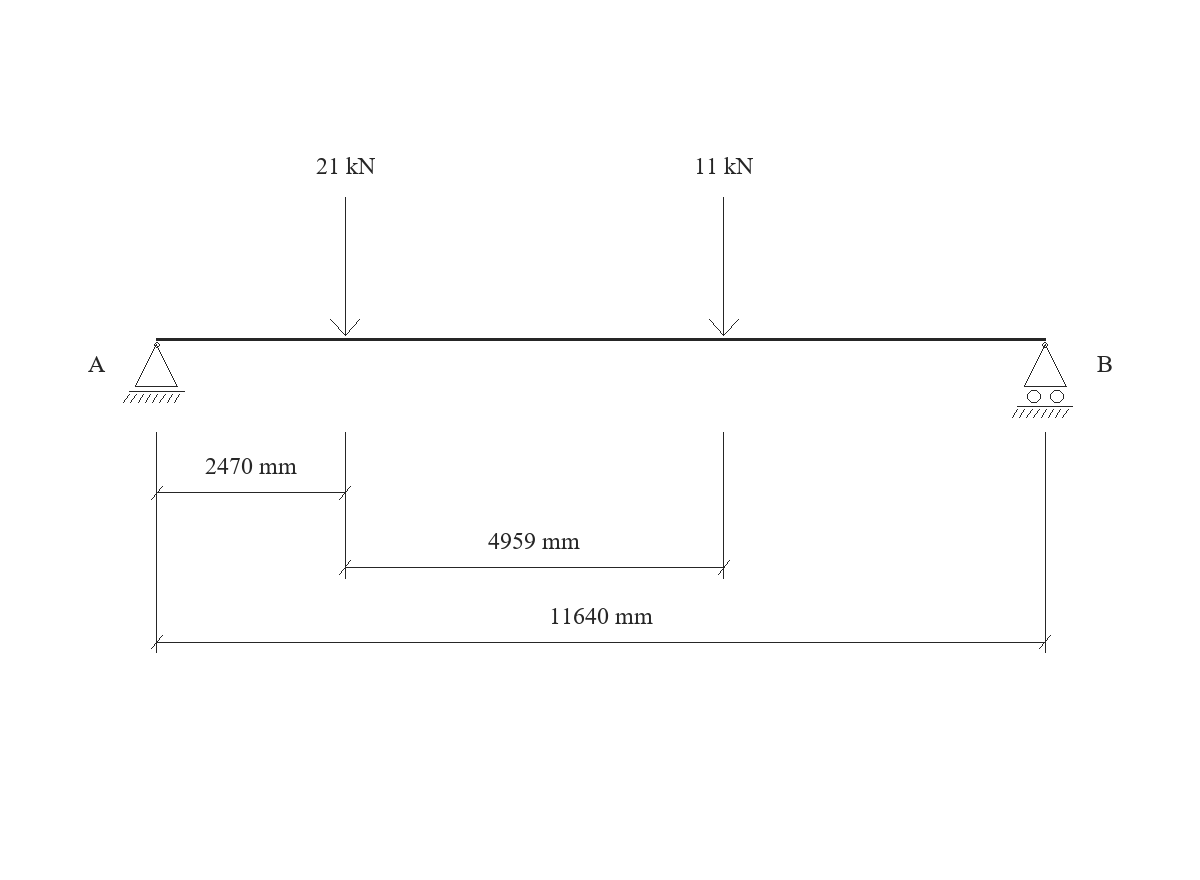pin_support: (123, 342, 185, 403)
point_load: (330, 197, 360, 336), (709, 197, 739, 336)
roller_support: (1012, 342, 1073, 418)
